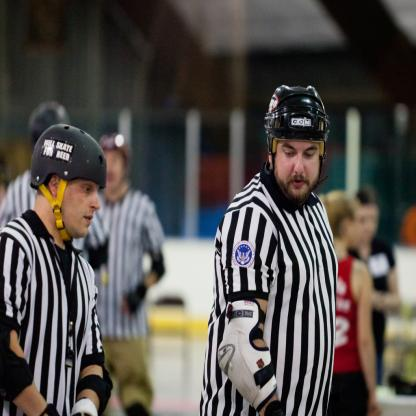Helmet: (27, 111, 107, 255), (265, 84, 329, 198), (28, 103, 72, 146), (98, 132, 133, 172)
